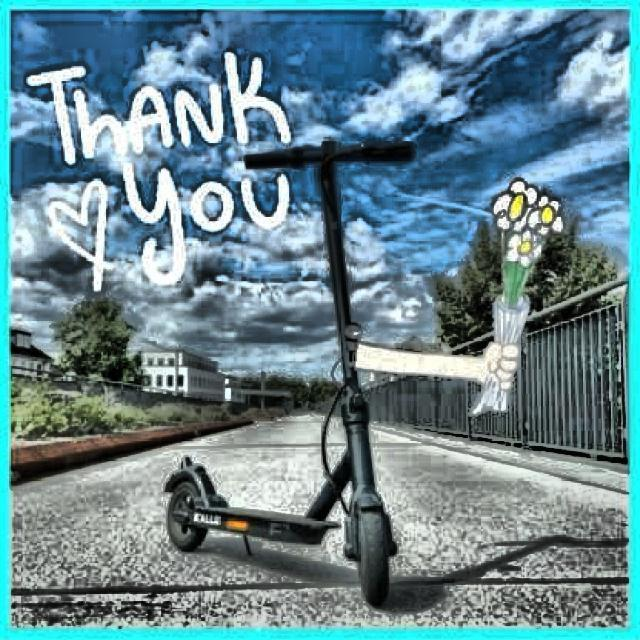bike: (160, 137, 509, 609)
